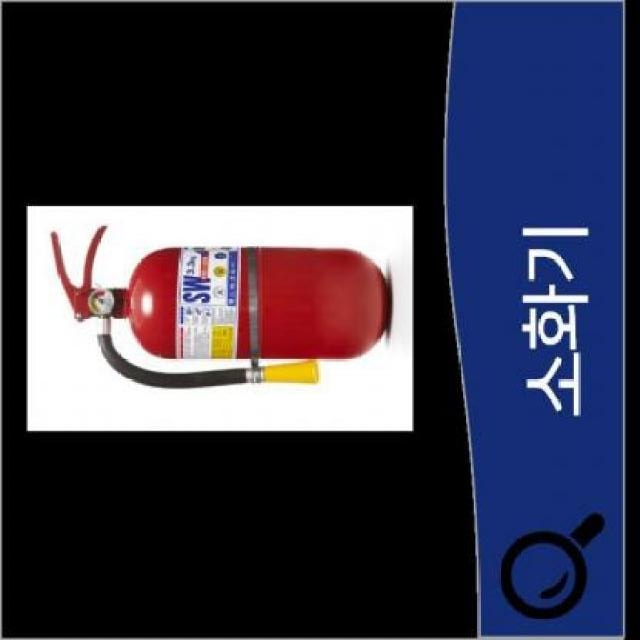fire extinguisher: (50, 225, 390, 389)
